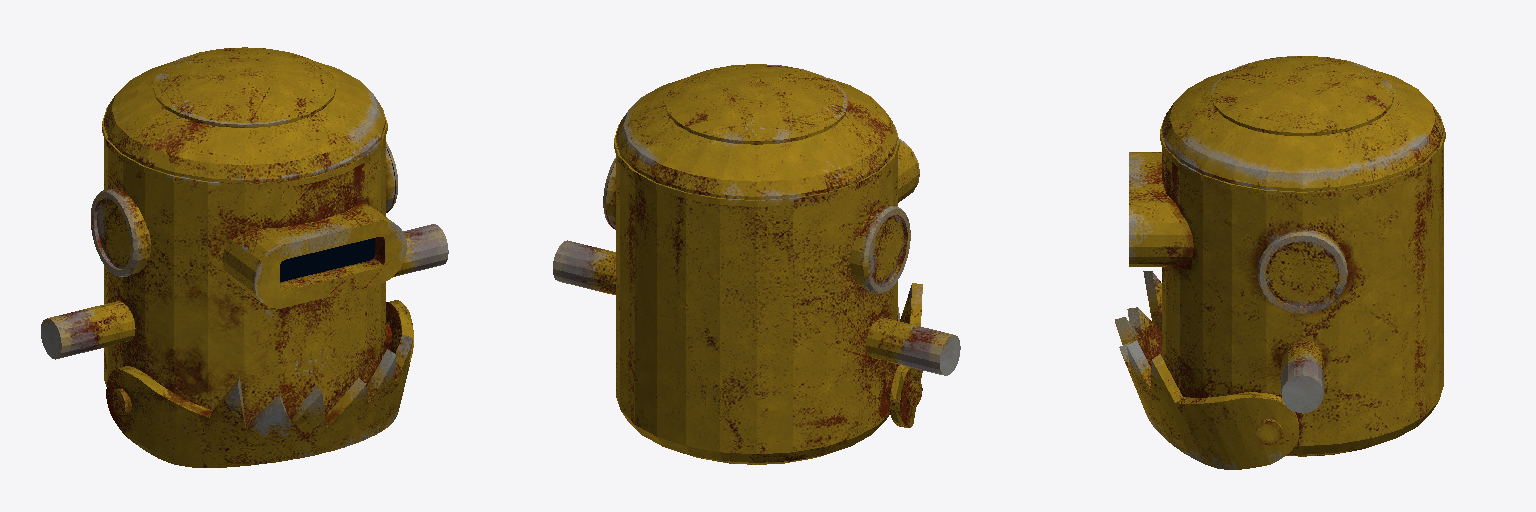
3 renders of one model, left to right at view 1: azimuth 30°, elevation 25°; view 2: azimuth 150°, elevation 25°; view 3: azimuth 270°, elevation 25°, orthographic.
Parts seen in each view (by area): view 1: OilTank001; view 2: OilTank001; view 3: OilTank001.
Boxes of the visible parts, x1,y1,x2,y2 form: OilTank001: [41, 47, 448, 467]; OilTank001: [553, 64, 960, 464]; OilTank001: [1115, 56, 1445, 469].
Bounding box in the file's own units: 1.44 × 1.27 × 1.07.
Materials: 1 (1 with a texture image).